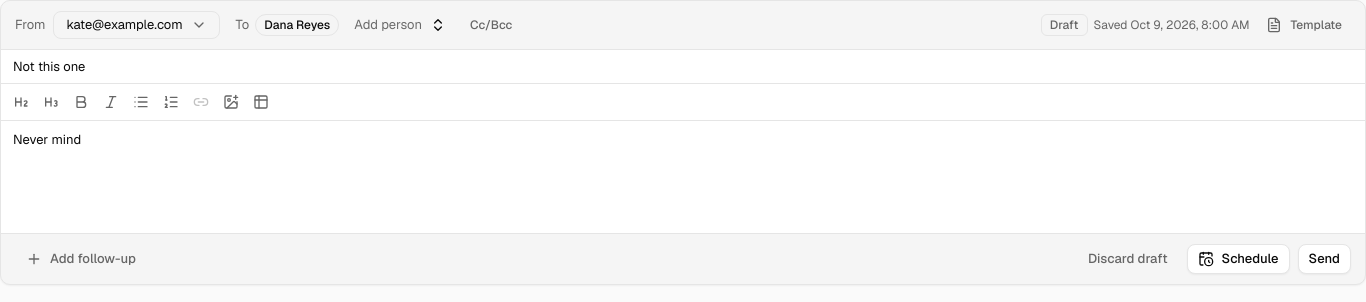
Test: drafts: saved as you write, on leaving, and put back › “Discard draft” deletes it and empties the composer
Expected: the field named "Subject" reads "Not this one", [13,58,85,75]
Click the button "Discard draft": (1128, 259) [1077,244,1178,274]
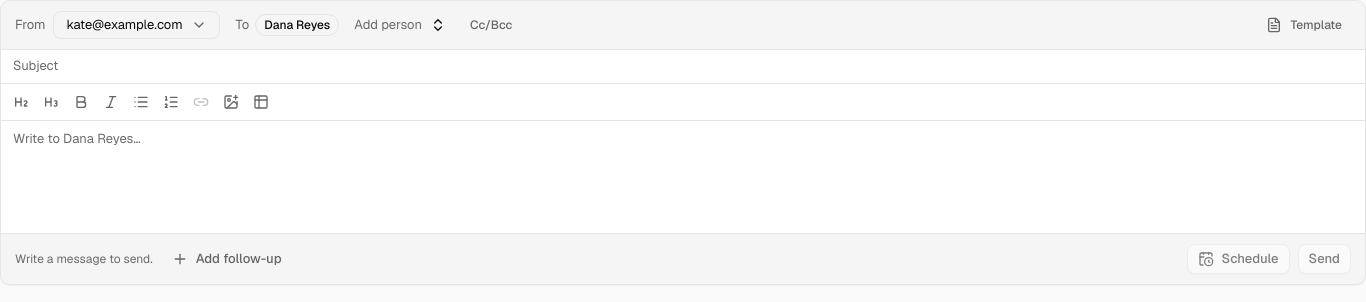
Now the field named "Subject" no longer shows "Not this one", box [1,50,1365,83]
